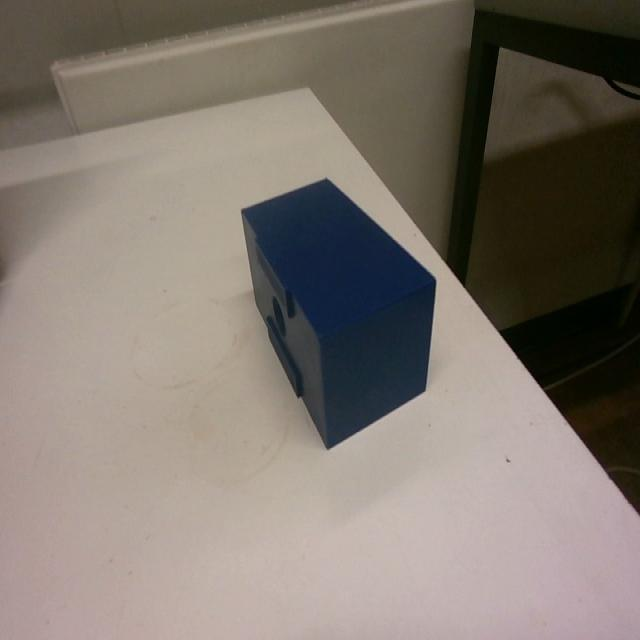Blue Cuboid: (238, 173, 438, 450)
